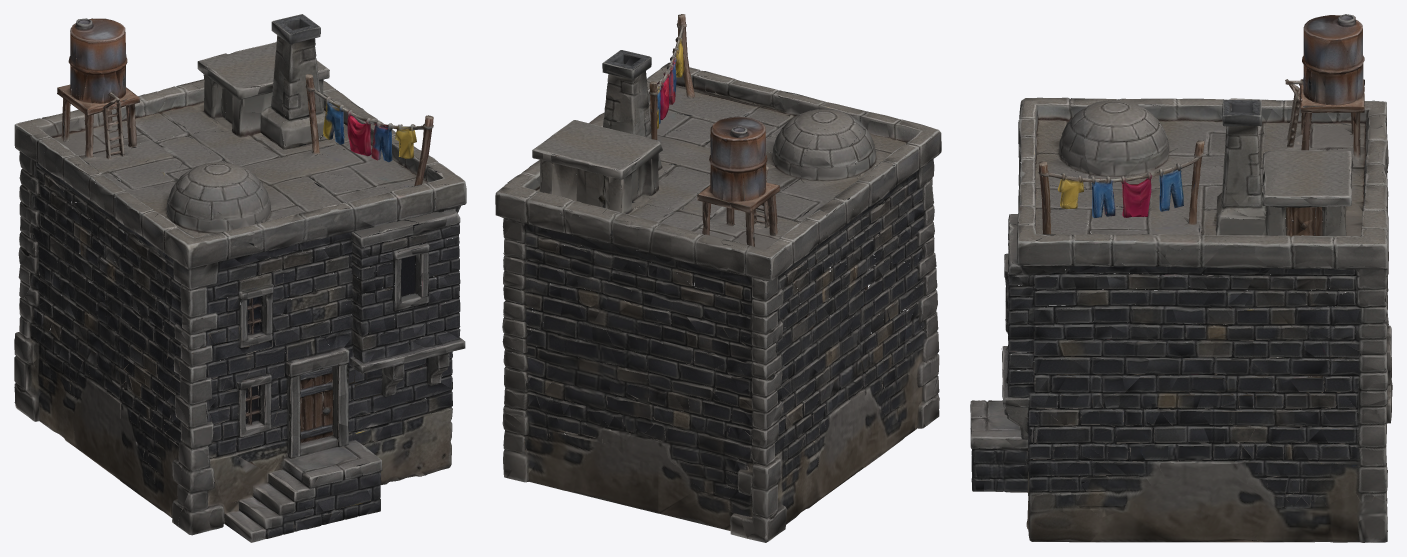
The model's file is M09_RooftopBlock.fbx.
3 renders of one model, left to right at view 1: azimuth 30°, elevation 25°; view 2: azimuth 150°, elevation 25°; view 3: azimuth 270°, elevation 25°, orthographic. The views are drawn at different scales.
Visible parts, largest first — view 1: M09_RooftopBlock.145; view 2: M09_RooftopBlock.145; view 3: M09_RooftopBlock.145.
Boxes of the visible parts, x1,y1,x2,y2 form: M09_RooftopBlock.145: [14, 14, 466, 542]; M09_RooftopBlock.145: [495, 14, 941, 542]; M09_RooftopBlock.145: [970, 14, 1392, 542].
Bounding box in the file's own units: 5.99 × 8 × 7.41.
1 material, 1 textured.
